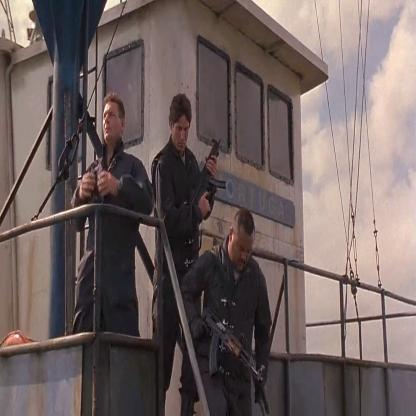gun: (198, 292, 277, 393), (184, 121, 226, 232)
